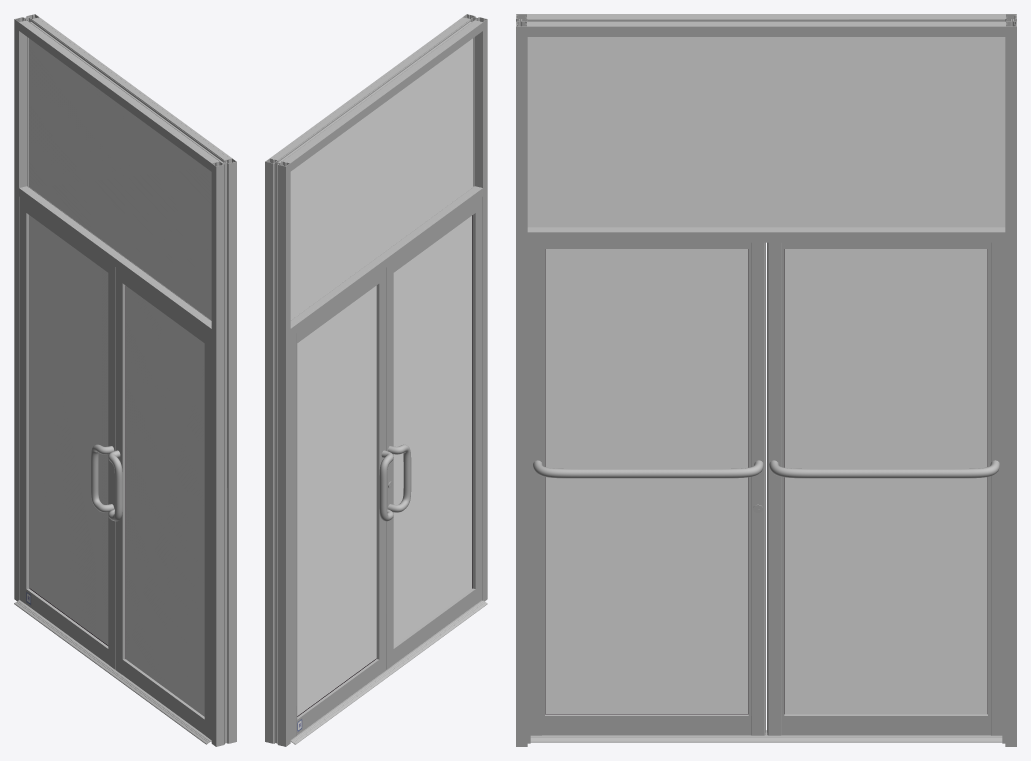
The model's file is Transomed_D200_Pair_Animated.glb.
3 views of the same model, side by side, from view 1: azimuth 30°, elevation 25°; view 2: azimuth 150°, elevation 25°; view 3: azimuth 270°, elevation 25° (orthographic). The views are drawn at different scales.
Parts seen in each view (by area): view 1: Cube.008, Cube.007, Cube.009, PROFILE_curve_.051, PROFILE_curve_.052, PROFILE_curve_.054, PROFILE_curve_.056, PROFILE_curve_.057, PROFILE_curve_.060, PROFILE_curve_.058, PROFILE_curve_.055, PROFILE_curve_.059 (+9 smaller); view 2: Cube.007, Cube.008, Cube.009, PROFILE_curve_.053, PROFILE_curve_.054, PROFILE_curve_.052, PROFILE_curve_.058, PROFILE_curve_.055, PROFILE_curve_.060, PROFILE_curve_.056, PROFILE_curve_.057, PROFILE_curve_.059 (+9 smaller); view 3: Cube.007, Cube.008, Cube.009, PROFILE_curve_.054, PROFILE_curve_.052, PROFILE_curve_.055, PROFILE_curve_.057, PROFILE_curve_.056, PROFILE_curve_.058, PROFILE_curve_.059, PROFILE_curve_.044, PROFILE_curve_.060 (+10 smaller).
Boxes of the visible parts, x1,y1,x2,y2 form: Cube.008: (126,286,204,716); Cube.007: (29,215,108,645); Cube.009: (29,38,211,320); PROFILE_curve_.051: (218,161,234,746); PROFILE_curve_.052: (211,158,236,746); PROFILE_curve_.054: (14,14,39,601); PROFILE_curve_.056: (19,197,28,604); PROFILE_curve_.057: (115,267,125,674); PROFILE_curve_.060: (22,18,229,162); PROFILE_curve_.058: (204,333,211,739); PROFILE_curve_.055: (108,262,115,669); PROFILE_curve_.059: (19,17,231,171); Cube.007: (297,285,376,715); Cube.008: (393,215,472,645); Cube.009: (290,38,473,319); PROFILE_curve_.053: (267,162,283,746); PROFILE_curve_.054: (265,158,290,746); PROFILE_curve_.052: (462,14,487,601); PROFILE_curve_.058: (473,197,482,604); PROFILE_curve_.055: (376,267,386,674); PROFILE_curve_.060: (272,18,480,162); PROFILE_curve_.056: (290,333,297,739); PROFILE_curve_.057: (386,262,393,669); PROFILE_curve_.059: (270,17,482,171); Cube.007: (784,249,987,714); Cube.008: (545,249,748,713); Cube.009: (527,37,1005,227); PROFILE_curve_.054: (1005,14,1016,746); PROFILE_curve_.052: (516,14,527,746); PROFILE_curve_.055: (767,242,784,735); PROFILE_curve_.057: (748,242,765,735); PROFILE_curve_.056: (988,242,1002,735); PROFILE_curve_.058: (530,242,544,735); PROFILE_curve_.059: (527,14,1005,36); PROFILE_curve_.044: (527,231,1005,242); PROFILE_curve_.060: (527,15,1005,25).
Size of the model in its own units: 0.2107 by 3.05 by 1.92.
5 materials, 1 textured.
